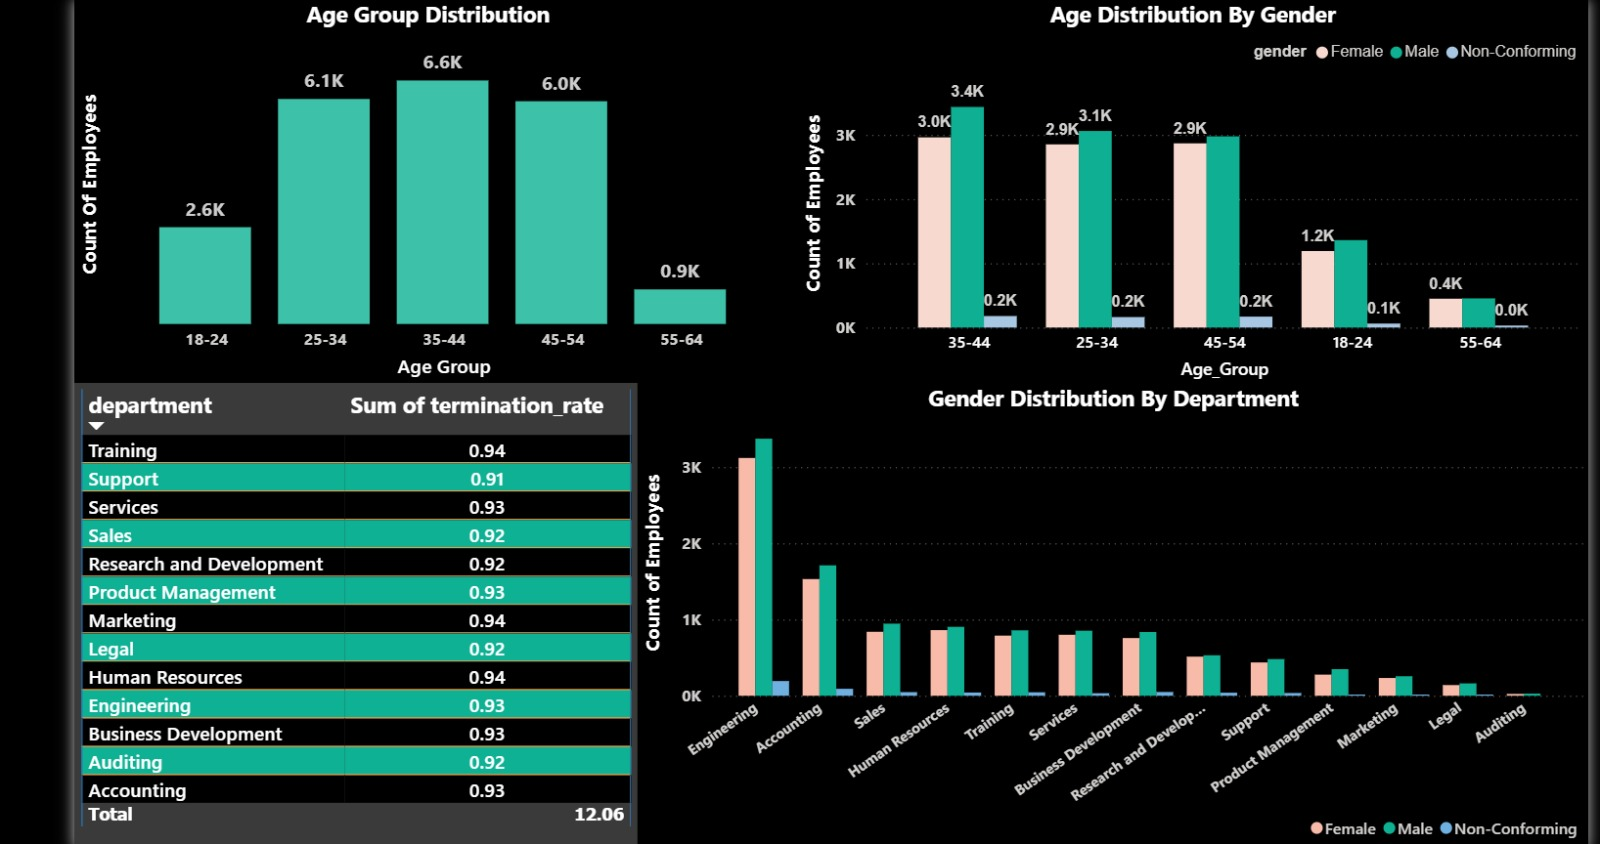

This screenshot's page, from the dashboard's own definition file:
{"tool":"powerbi","page":{"name":"Page 2","canvas":[1280,720],"ordinal":1},"visuals":[{"type":"columnChart","title":"Age Group Distribution","fields":{"Category":["AGE BY CONTRIBUTION.age_group"],"Y":["Sum(AGE BY CONTRIBUTION.count)"]},"box":[0,0,598.3,325],"z":0},{"type":"clusteredColumnChart","title":"Age Distribution By Gender","fields":{"Category":["AGE GENDER BY CONTRIBUTION.age_group"],"Y":["Sum(AGE GENDER BY CONTRIBUTION.count)"],"Series":["AGE GENDER BY CONTRIBUTION.gender"]},"box":[611.7,0,668.3,326.7],"z":1000},{"type":"tableEx","fields":{"Values":["turnover rates.department","Sum(turnover rates.termination_rate)"]},"box":[0,324.3,475.7,395.7],"z":2000},{"type":"clusteredColumnChart","title":"Gender Distribution By Department","fields":{"Category":["GENDER DEPARTMENTS.department"],"Y":["Sum(GENDER DEPARTMENTS.COUNT)"],"Series":["GENDER DEPARTMENTS.gender"]},"box":[475.7,324.3,804.3,395.7],"z":3000}]}

Visuals, with their boxes on the page's 1280x720 design canvas (x1, y1, x2, y2). These are canvas units, not pixel positions in the 1600x844 screenshot, which may show the page scaled, cropped or inside an application window:
"Age Group Distribution" columnChart: select_region(0, 0, 598, 325)
"Age Distribution By Gender" clusteredColumnChart: select_region(612, 0, 1280, 327)
tableEx - turnover rates.department x Sum(turnover rates.termination_rate): select_region(0, 324, 476, 720)
"Gender Distribution By Department" clusteredColumnChart: select_region(476, 324, 1280, 720)
